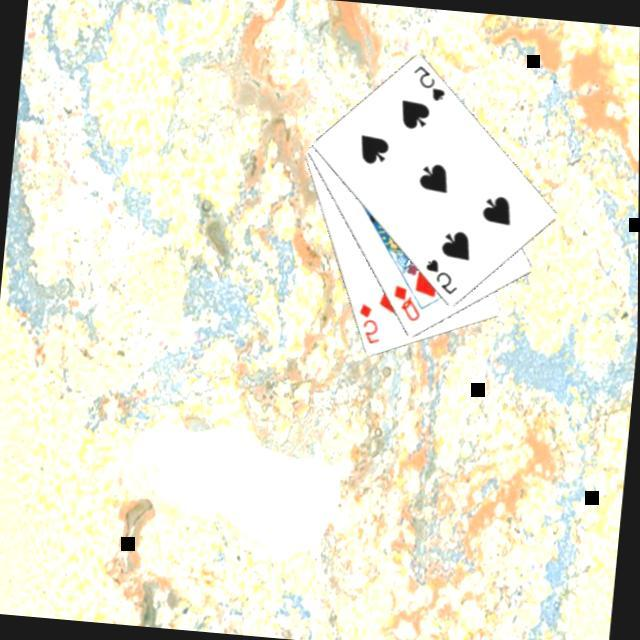5D: (350, 298, 384, 346)
5S: (418, 254, 461, 298), (405, 60, 448, 104)
QD: (386, 280, 423, 324)
